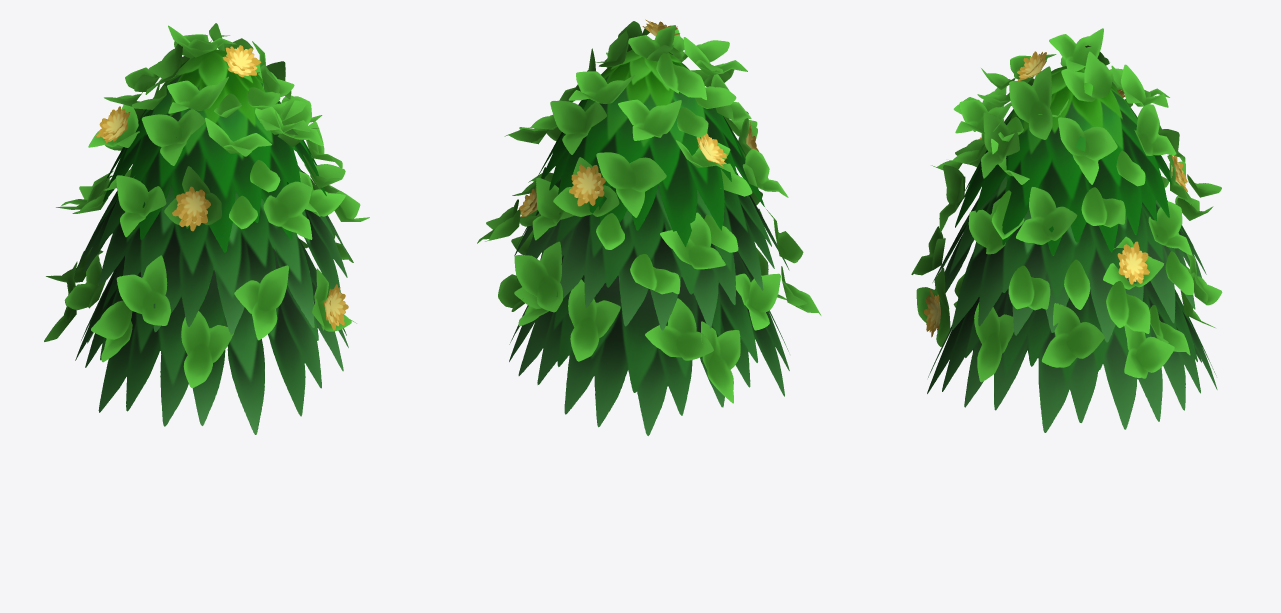
Rendered from SM_Bush_05_AC.fbx.
3 renders of one model, left to right at view 1: azimuth 30°, elevation 25°; view 2: azimuth 150°, elevation 25°; view 3: azimuth 270°, elevation 25°, orthographic.
Visible parts, largest first — view 1: SM_Bush_05_AC; view 2: SM_Bush_05_AC; view 3: SM_Bush_05_AC.
Boxes of the visible parts, left/top/right/bottom form: SM_Bush_05_AC: left=44, top=23, right=369, bottom=434; SM_Bush_05_AC: left=477, top=19, right=821, bottom=435; SM_Bush_05_AC: left=911, top=28, right=1222, bottom=432.
Size of the model in its own units: 140 by 200 by 140.
